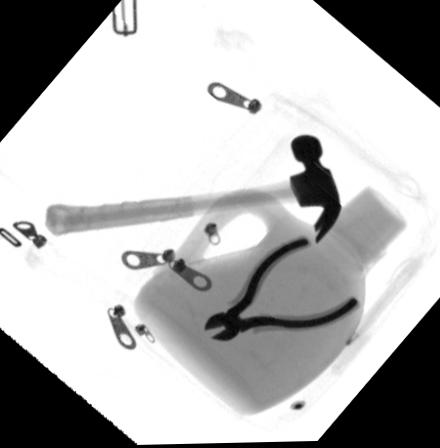Hammer: (42, 135, 341, 247)
Pliers: (203, 235, 361, 344)
